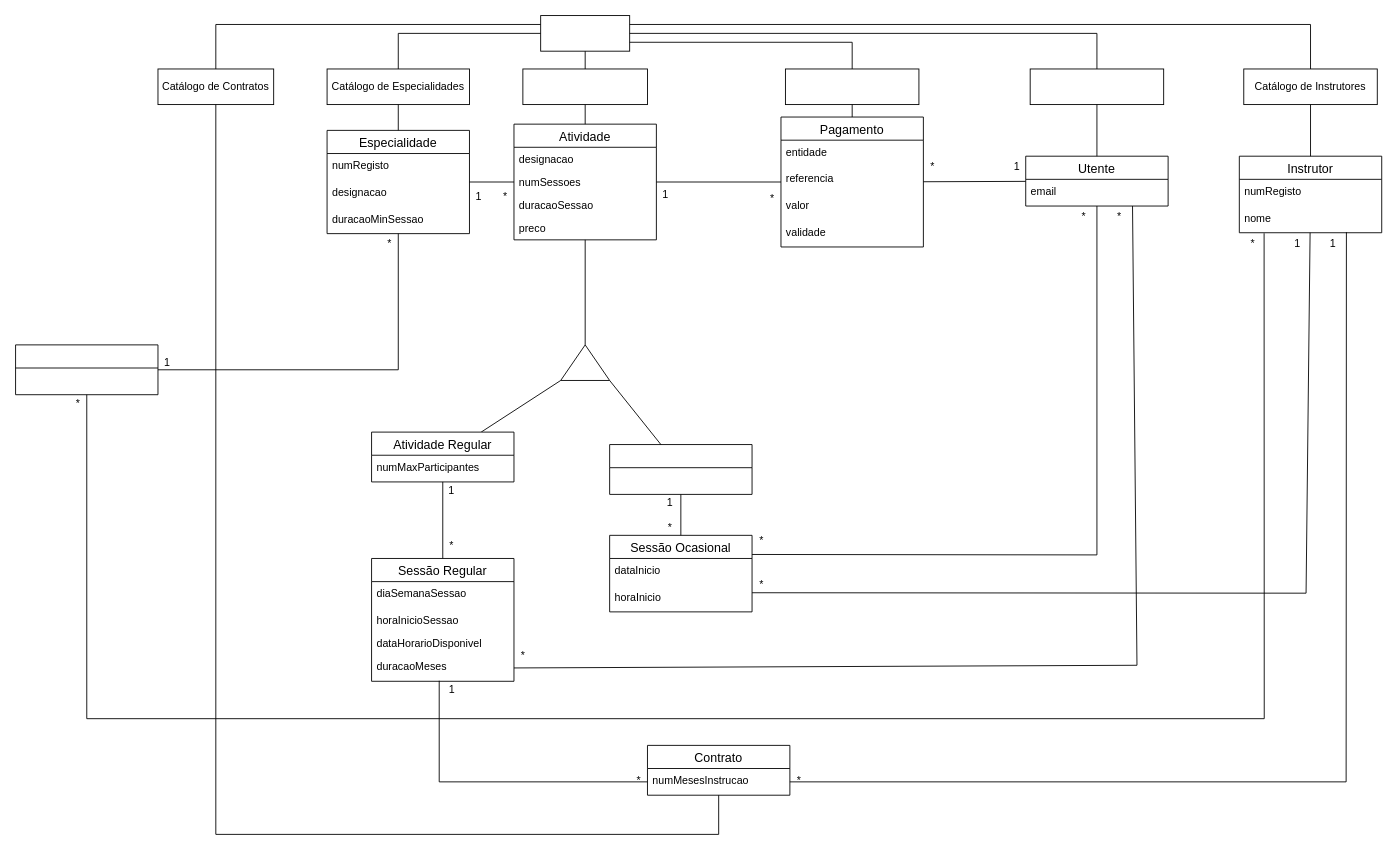
Some shapes in this 1397 by 851 pixel diagram are drawn without their labels. Here are the shapes that lost their labels. From the top down, the centre of each, then its label:
At (585,33): "SaudeGes".
At (584,86): "Catálogo de Atividades".
At (852,86): "Catálogo de Pagamentos".
At (1096,86): "Catálogo de Utentes".
At (86,369): "Certificação".
At (680,469): "Atividade Ocasional".
